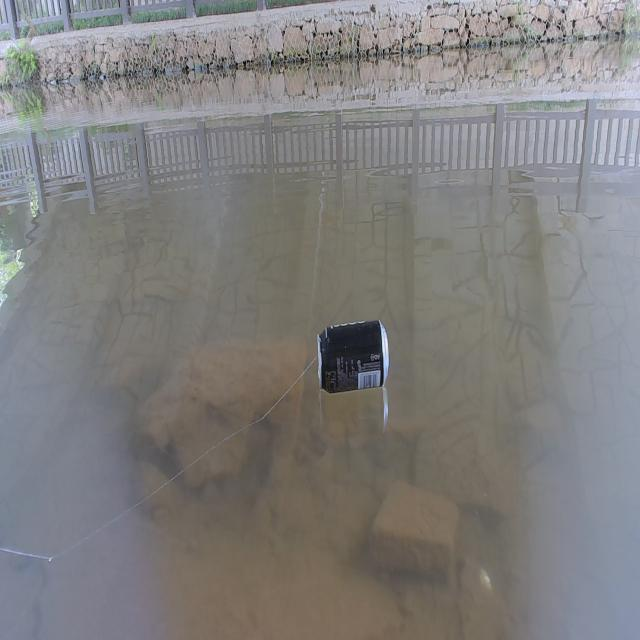garbage: (316, 318, 390, 394)
